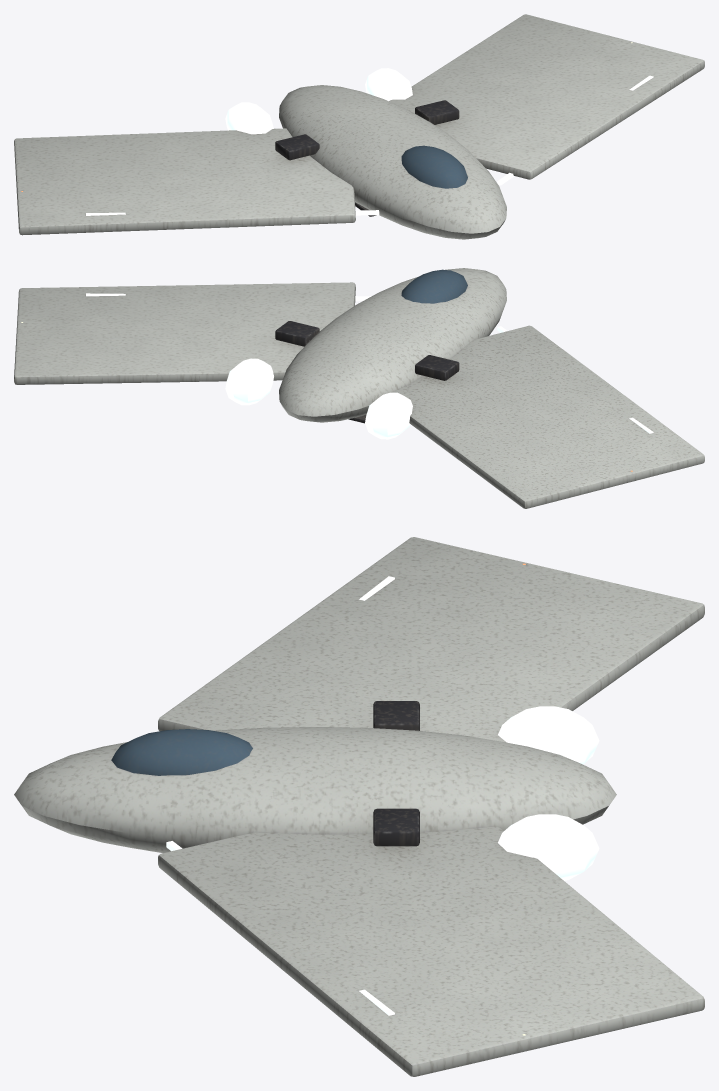
The model's file is west_bomber.glb.
3 renders of one model, top to bottom at view 1: azimuth 30°, elevation 25°; view 2: azimuth 150°, elevation 25°; view 3: azimuth 270°, elevation 25°, orthographic. The views are drawn at different scales.
Parts seen in each view (by area): view 1: Hull; view 2: Hull; view 3: Hull.
Part boxes in pixels (x1,y1,x2,y2): Hull: (14,14,704,239); Hull: (14,268,704,508); Hull: (14,537,704,1076).
Size of the model in its own units: 10.8 by 1.05 by 5.96.
Materials: 6 (6 with a texture image).
